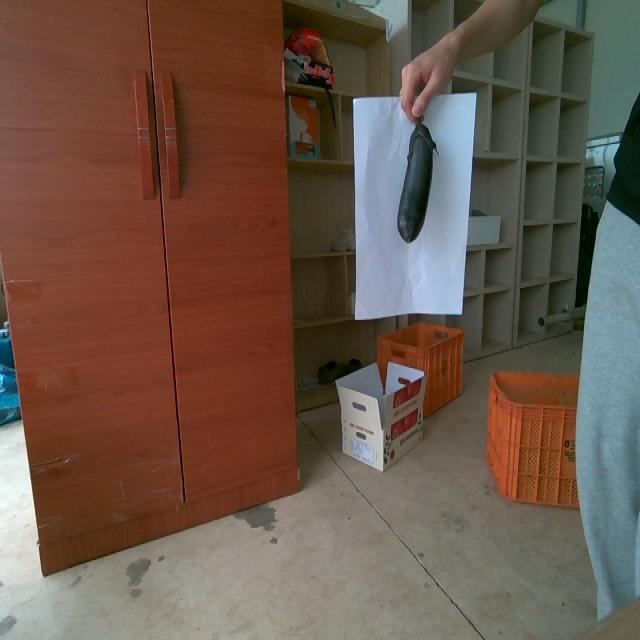Egg plant: (397, 119, 436, 241)
